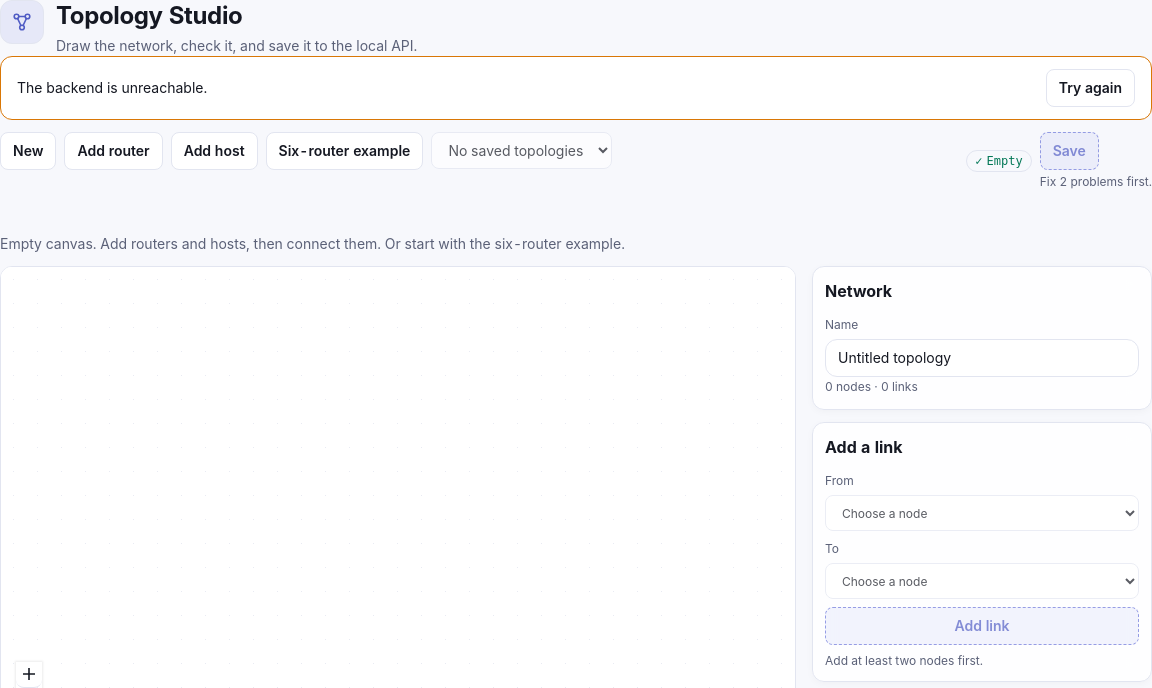
Test: failure states › backend unreachable: shows the problem and recovers on Try again
Expected: the message "The backend is unreachable. Try again" is shown, [0, 56, 1151, 120]
Step 1. Click the button "Try again" → [1090, 88], box [1046, 69, 1135, 107]
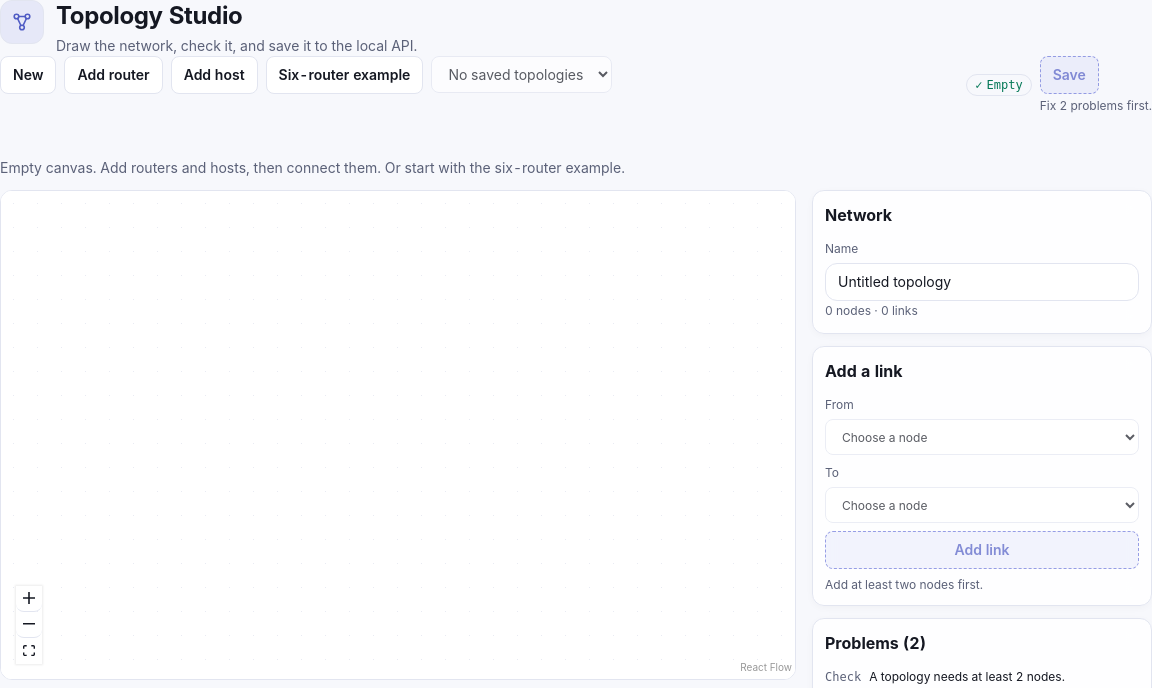
Expected: the text "The backend is unreachable." is gone
